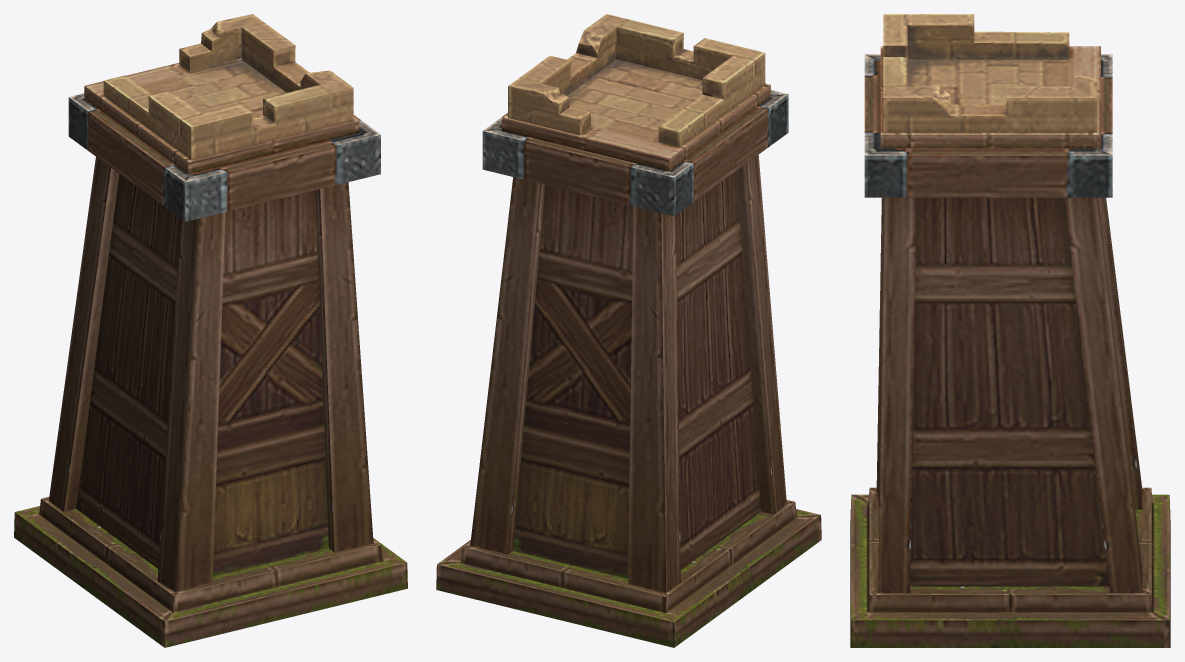
The model's file is ShiJie_ChengQiang_16.FBX.
3 views of the same model, side by side, from view 1: azimuth 30°, elevation 25°; view 2: azimuth 150°, elevation 25°; view 3: azimuth 270°, elevation 25° (orthographic). The views are drawn at different scales.
Parts seen in each view (by area): view 1: ShiJie_ChengQiang_16; view 2: ShiJie_ChengQiang_16; view 3: ShiJie_ChengQiang_16.
Part boxes in pixels (x1,y1,x2,y2): ShiJie_ChengQiang_16: (14, 14, 407, 647); ShiJie_ChengQiang_16: (436, 14, 821, 647); ShiJie_ChengQiang_16: (850, 14, 1170, 647).
Size of the model in its own units: 45.69 by 89.75 by 49.06.
